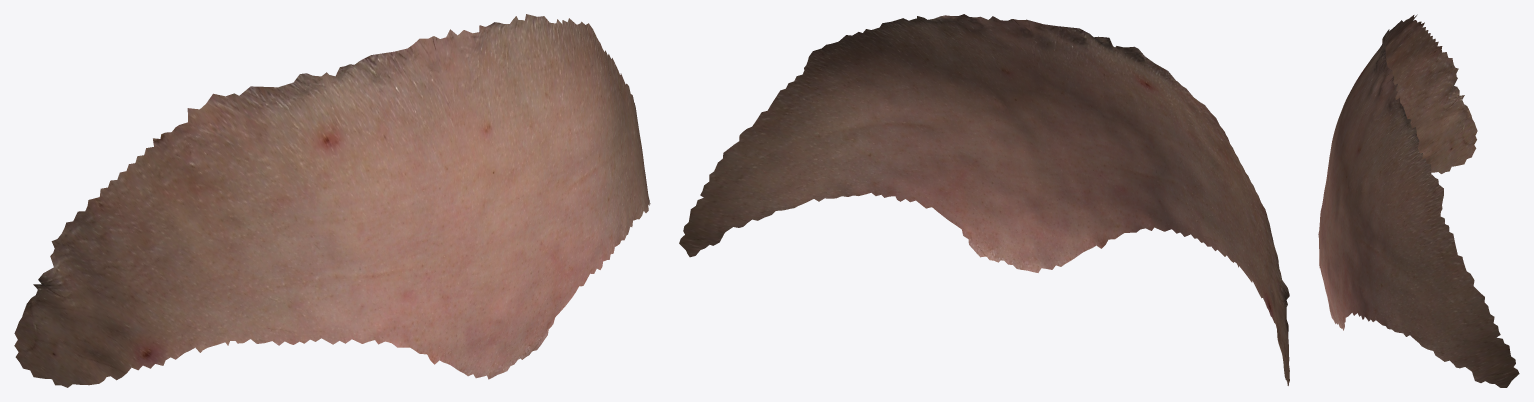
The model's file is forehead05.obj.
The picture shows the model from 3 angles, left to right: view 1: azimuth 30°, elevation 25°; view 2: azimuth 150°, elevation 25°; view 3: azimuth 270°, elevation 25°; orthographic projection. The views are drawn at different scales.
Visible parts, largest first — view 1: default; view 2: default; view 3: default.
Boxes of the visible parts, x1,y1,x2,y2 form: default: (14, 14, 650, 387); default: (679, 14, 1289, 385); default: (1318, 14, 1519, 387).
Size of the model in its own units: 118 by 55.36 by 42.48.
1 material, 1 textured.
